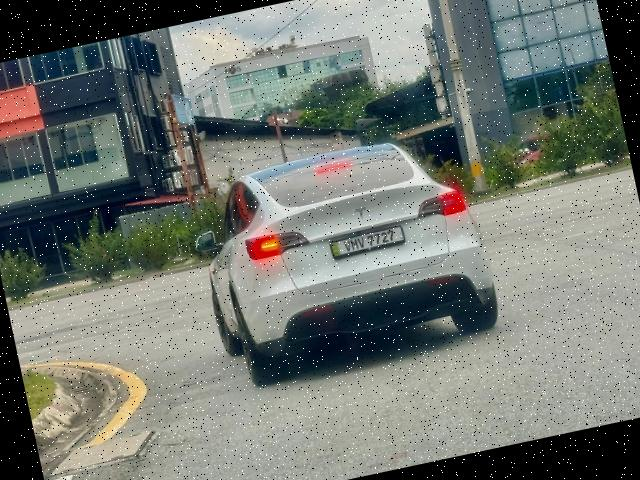License_Plate: (328, 225, 407, 261)
car: (183, 125, 507, 395)
